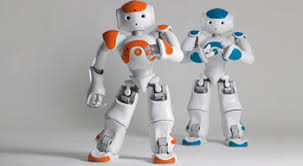nao: (85, 1, 184, 166), (180, 4, 258, 151)
